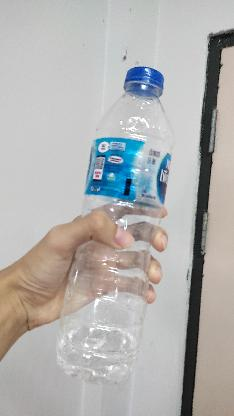Plastic Bottle: (54, 56, 174, 390)
